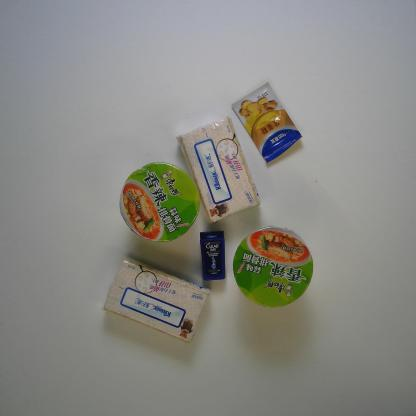Instant Noodles: (119, 160, 202, 245), (233, 223, 314, 308)
Personal Hygiene: (198, 230, 228, 282)
Seasoner: (230, 82, 304, 166)
Tissue: (104, 257, 214, 347), (176, 117, 264, 226)
